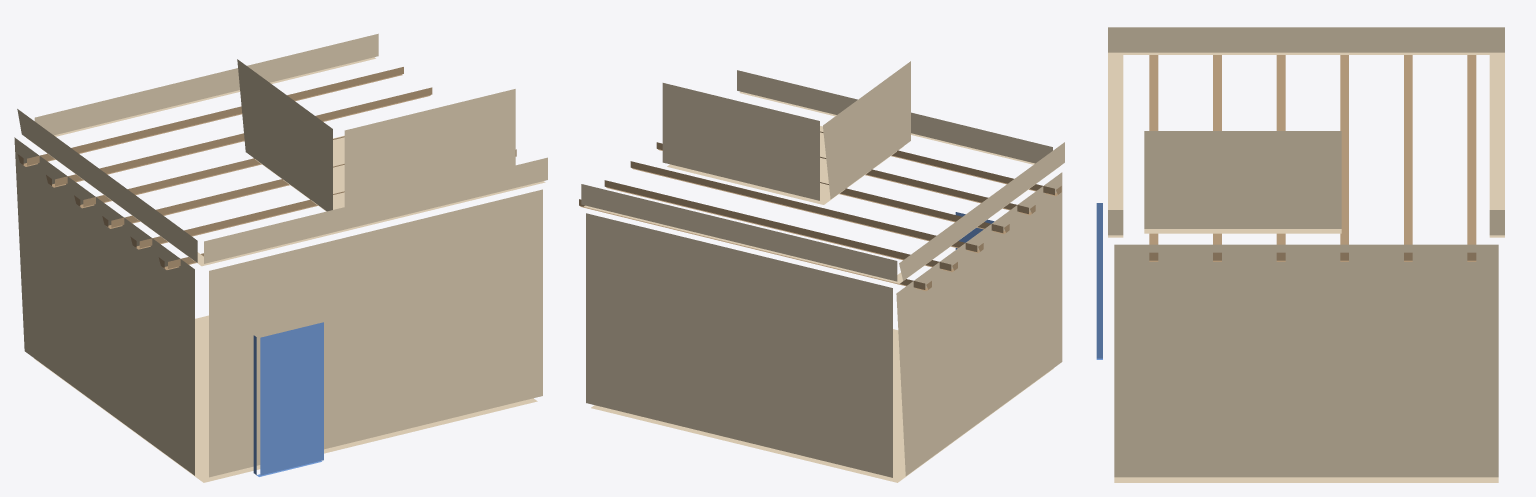
Rendered from ancient_house_sculpted.glb.
The picture shows the model from 3 angles, left to right: view 1: azimuth 30°, elevation 25°; view 2: azimuth 150°, elevation 25°; view 3: azimuth 270°, elevation 25°; orthographic projection. The views are drawn at different scales.
Size of the model in its own units: 7.8 by 6.2 by 6.73.
